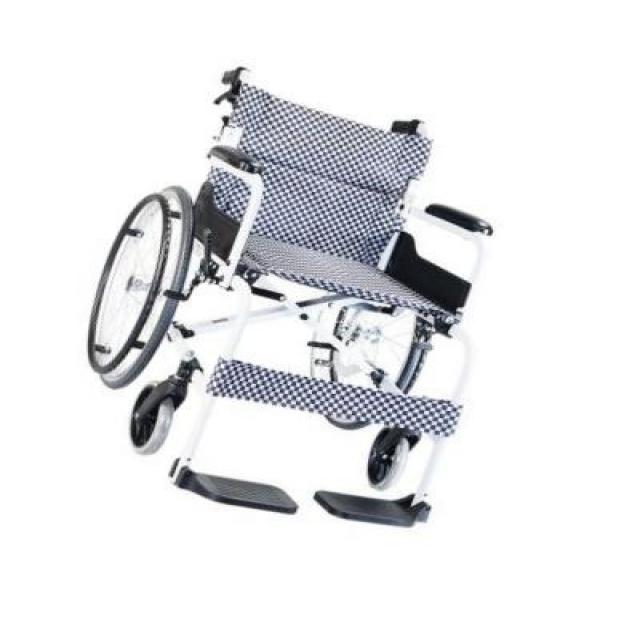wheelchair: (63, 52, 508, 543)
